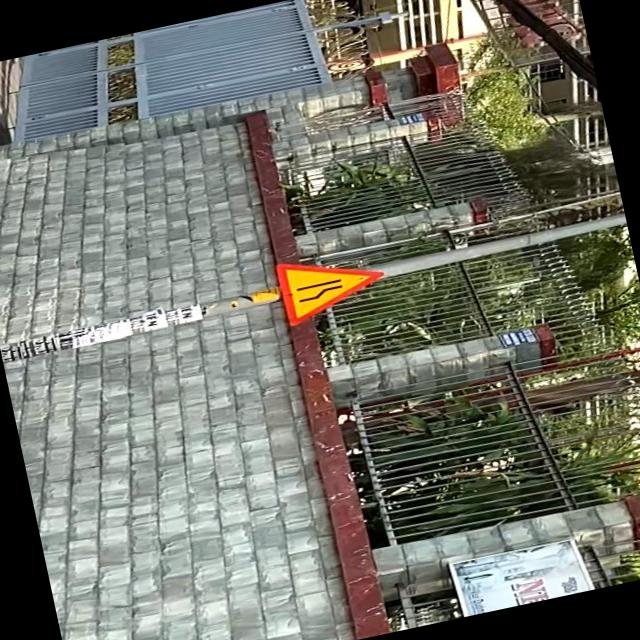W-203c: (272, 240, 390, 326)
